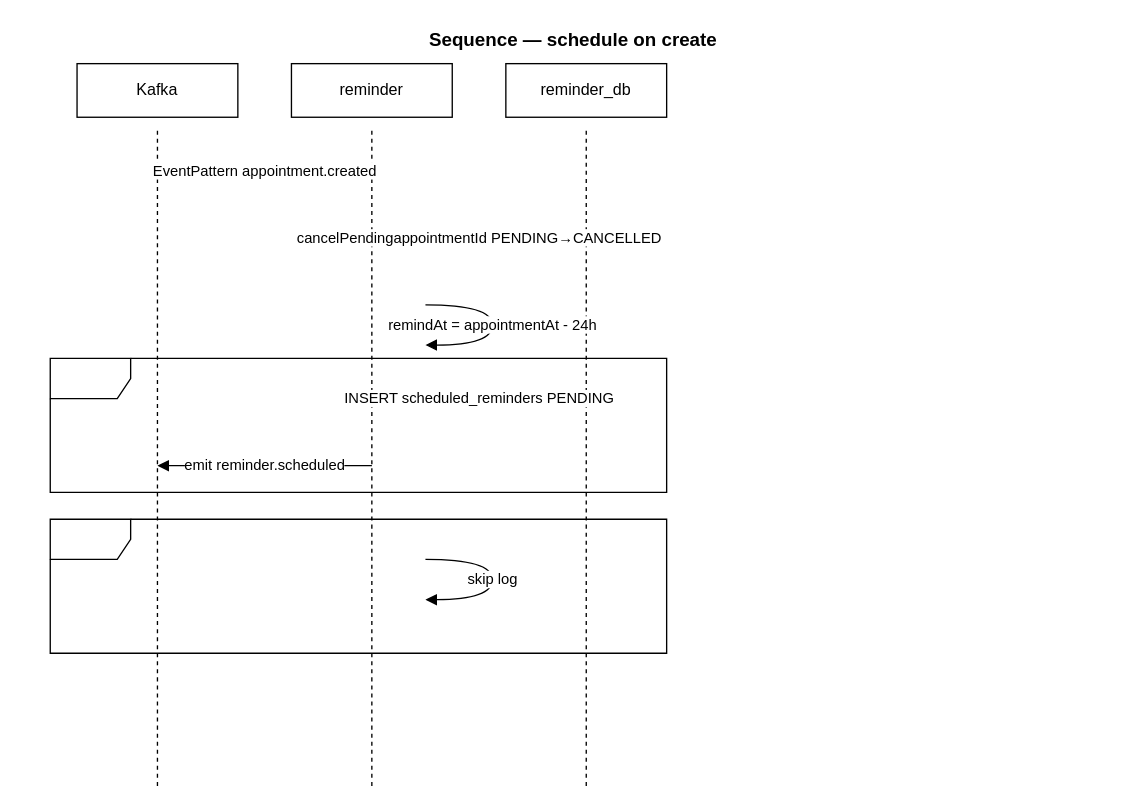
This 1144x812 diagram has some shape labels left out. The box of each missing label's shape, as (x1, y1, x2, y2) in pixels:
alt remindAt > now: (49, 357, 667, 492)
else else: (49, 518, 667, 653)
